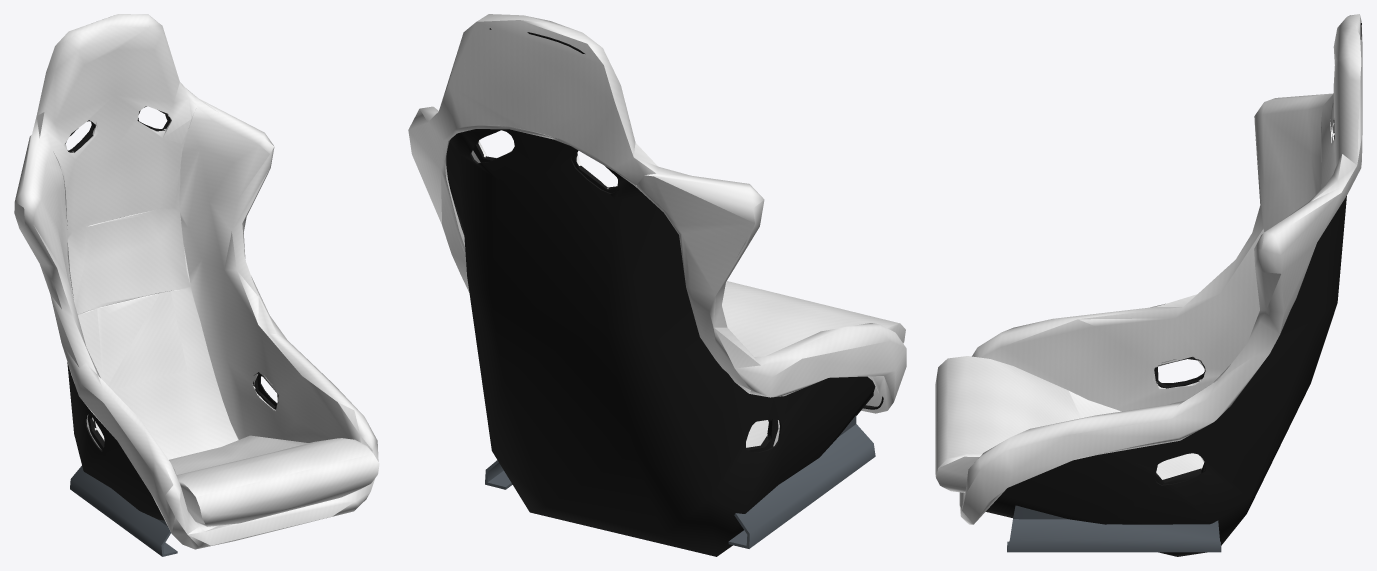
File: optimized-ksp.obj
The picture shows the model from 3 angles, left to right: view 1: azimuth 30°, elevation 25°; view 2: azimuth 150°, elevation 25°; view 3: azimuth 270°, elevation 25°; orthographic projection. The views are drawn at different scales.
Parts seen in each view (by area): view 1: KDA_seat_upholstered_bucket, KDA_seat_front_cushion, KDA_seat_rear_shell, KDA_seat_mounting_brackets, KDA_seat_harness_trim; view 2: KDA_seat_rear_shell, KDA_seat_upholstered_bucket, KDA_seat_front_cushion, KDA_seat_mounting_brackets, KDA_seat_harness_trim; view 3: KDA_seat_upholstered_bucket, KDA_seat_rear_shell, KDA_seat_front_cushion, KDA_seat_mounting_brackets, KDA_seat_harness_trim.
Part boxes in pixels (x1=…): KDA_seat_upholstered_bucket: x1=14, y1=14, x2=378, y2=549; KDA_seat_front_cushion: x1=169, y1=435, x2=379, y2=526; KDA_seat_rear_shell: x1=67, y1=110, x2=277, y2=520; KDA_seat_mounting_brackets: x1=70, y1=466, x2=177, y2=556; KDA_seat_harness_trim: x1=65, y1=106, x2=278, y2=450; KDA_seat_rear_shell: x1=446, y1=28, x2=883, y2=556; KDA_seat_upholstered_bucket: x1=408, y1=14, x2=906, y2=446; KDA_seat_front_cushion: x1=722, y1=281, x2=905, y2=447; KDA_seat_mounting_brackets: x1=485, y1=415, x2=875, y2=548; KDA_seat_harness_trim: x1=473, y1=140, x2=778, y2=452; KDA_seat_upholstered_bucket: x1=959, y1=14, x2=1362, y2=524; KDA_seat_rear_shell: x1=986, y1=23, x2=1361, y2=556; KDA_seat_front_cushion: x1=935, y1=356, x2=1203, y2=492; KDA_seat_mounting_brackets: x1=1007, y1=505, x2=1221, y2=552; KDA_seat_harness_trim: x1=1153, y1=120, x2=1334, y2=484.
Size of the model in its own units: 0.4574 by 0.7402 by 0.5772.
Materials: 3 (1 with a texture image).
